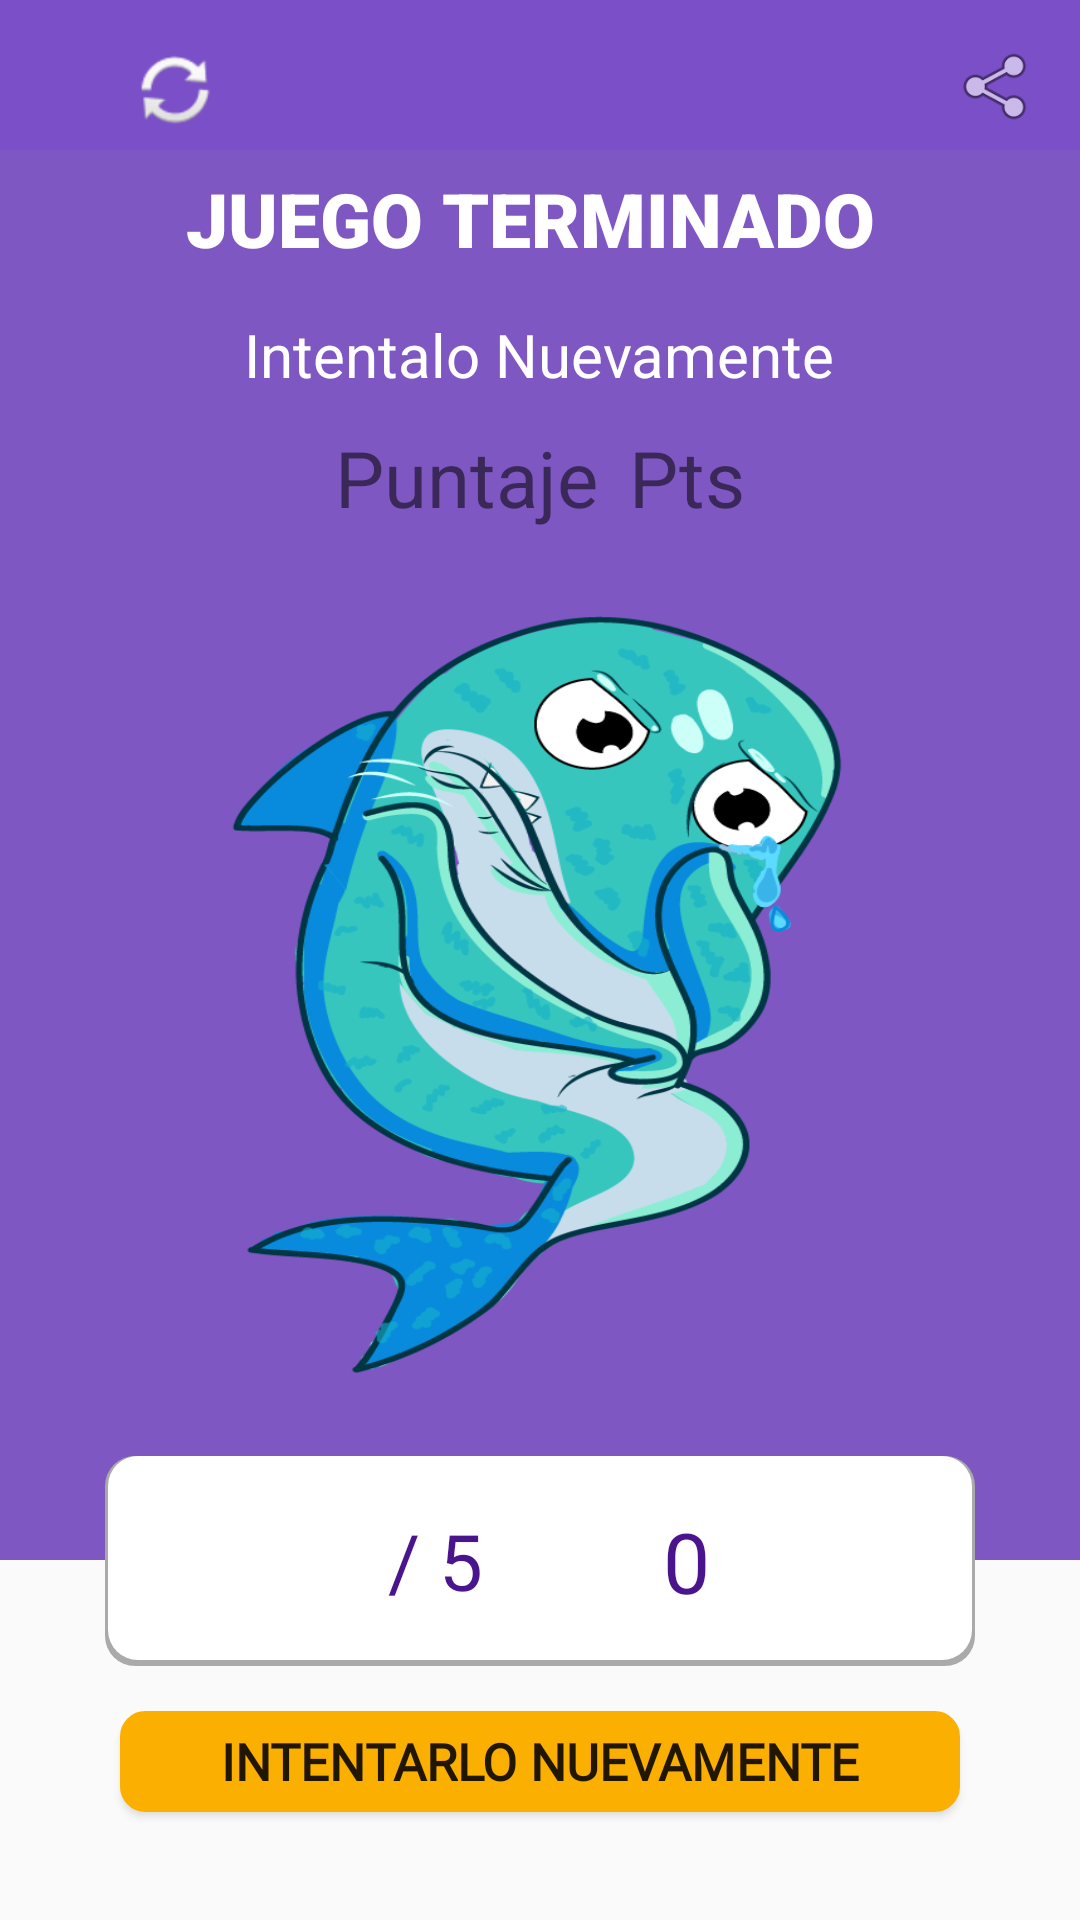

Icons on this 1080w x 1920h Android screen, each with the point to tap as point (x, y):
popup sync: point (175, 89)
share: point (994, 86)
